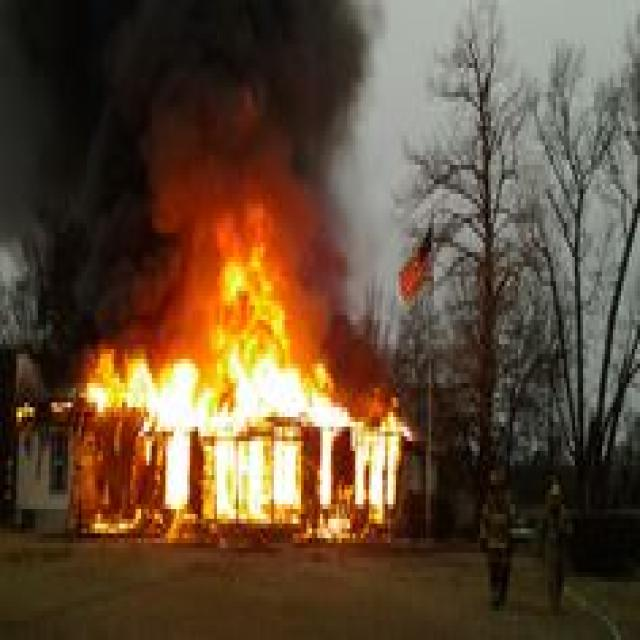Fire: (11, 11, 376, 319), (37, 320, 418, 560)
